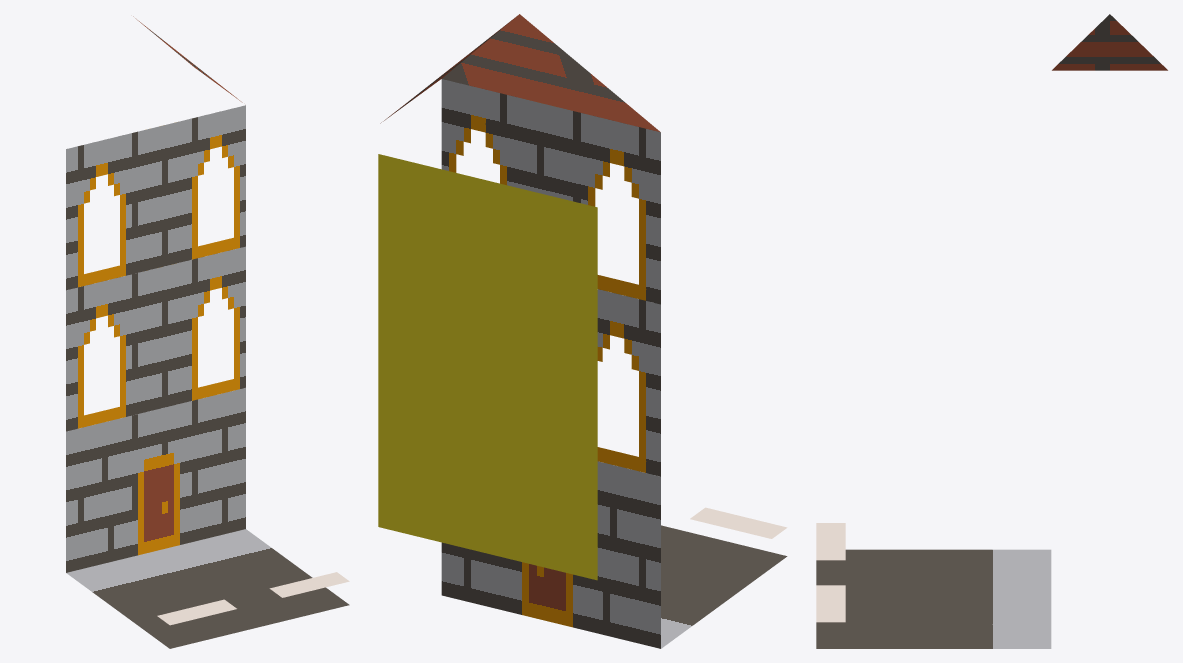
The model's file is street.gltf.
The picture shows the model from 3 angles, left to right: view 1: azimuth 30°, elevation 25°; view 2: azimuth 150°, elevation 25°; view 3: azimuth 270°, elevation 25°; orthographic projection. The views are drawn at different scales.
Parts seen in each view (by area): view 1: street; view 2: street; view 3: street.
Part boxes in pixels (x1,y1,x2,y2): street: (66,16,349,648); street: (378,14,787,648); street: (816,14,1167,648).
Size of the model in its own units: 2 by 5.5 by 3.
1 material, 1 textured.
